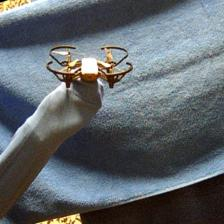drone: (46, 44, 133, 90)
